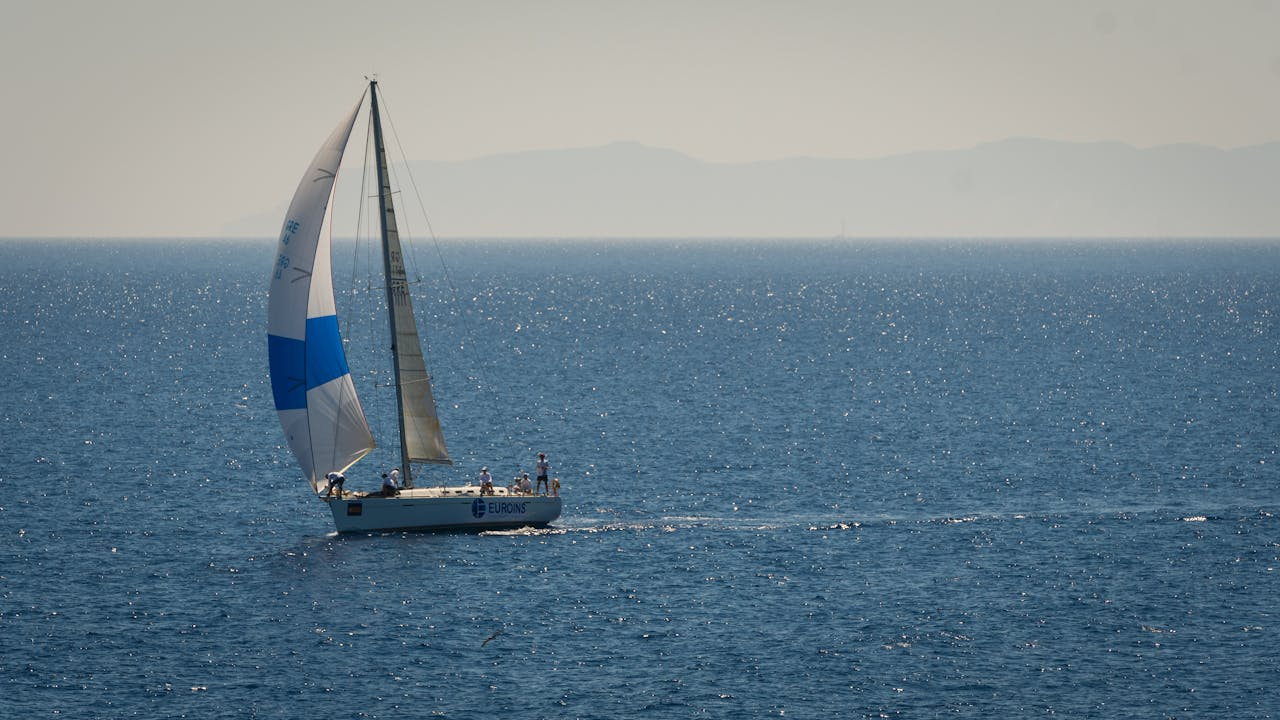boat: (253, 44, 569, 529)
